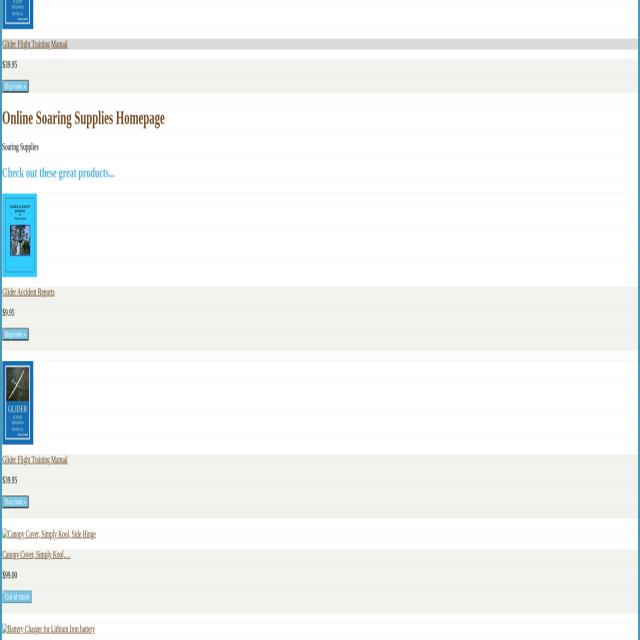button: (3, 194, 37, 277), (2, 361, 34, 445), (2, 0, 33, 29), (2, 591, 32, 603), (2, 328, 28, 341), (2, 80, 28, 93)
field: (2, 496, 28, 508)
